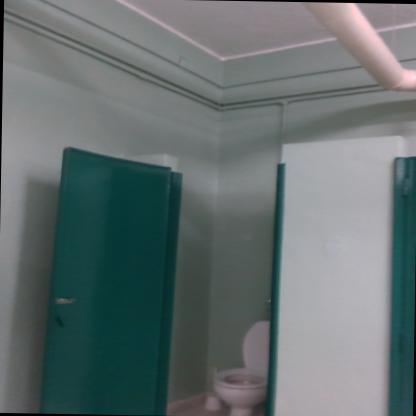open: (52, 141, 306, 416)
